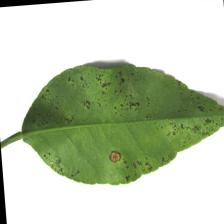canker: (64, 72, 184, 176)
